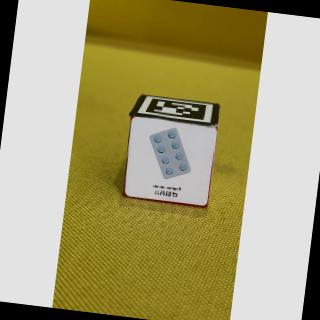Tablet: (124, 116, 218, 209)
